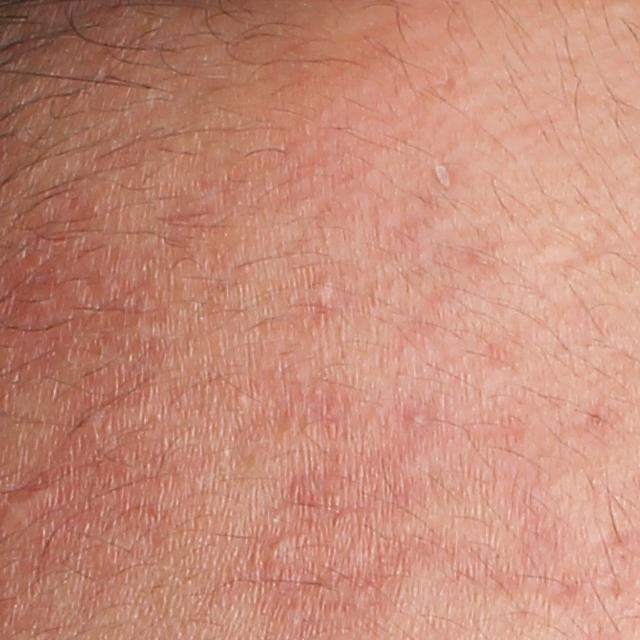comedo: (266, 532, 298, 561), (313, 285, 336, 310), (407, 404, 427, 425)
